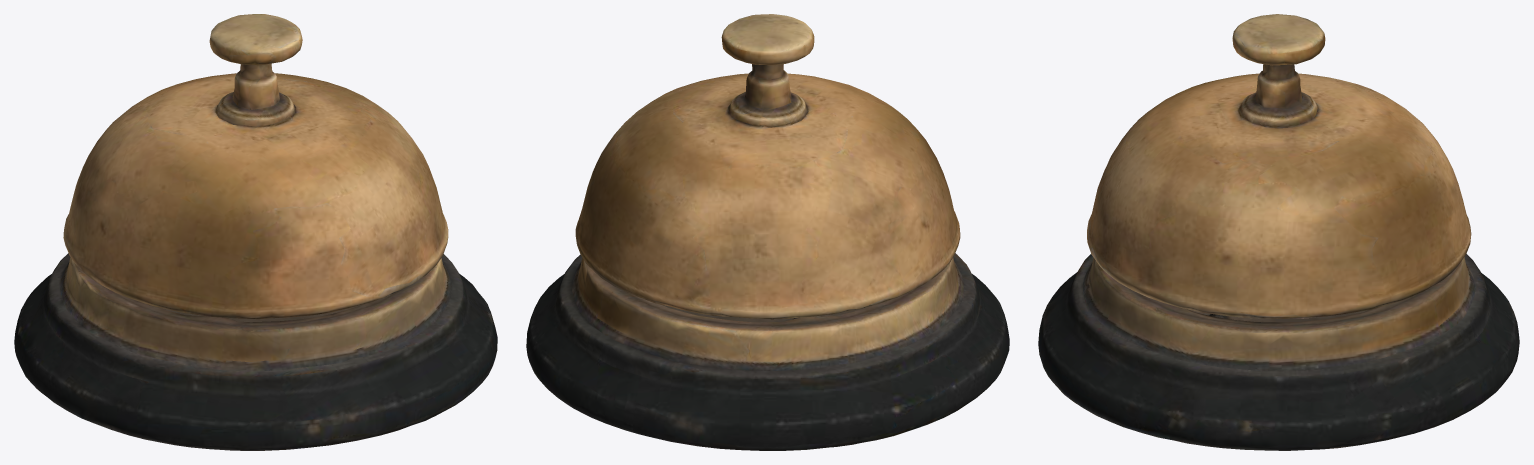
The model's file is service-bell.glb.
The picture shows the model from 3 angles, left to right: view 1: azimuth 30°, elevation 25°; view 2: azimuth 150°, elevation 25°; view 3: azimuth 270°, elevation 25°; orthographic projection.
Parts seen in each view (by area): view 1: Mesh_0; view 2: Mesh_0; view 3: Mesh_0.
Part boxes in pixels (x1,y1,x2,y2): Mesh_0: (14, 14, 497, 450); Mesh_0: (526, 14, 1009, 450); Mesh_0: (1038, 14, 1519, 450).
Size of the model in its own units: 0.1 by 0.0741 by 0.1.
Materials: 1 (1 with a texture image).
